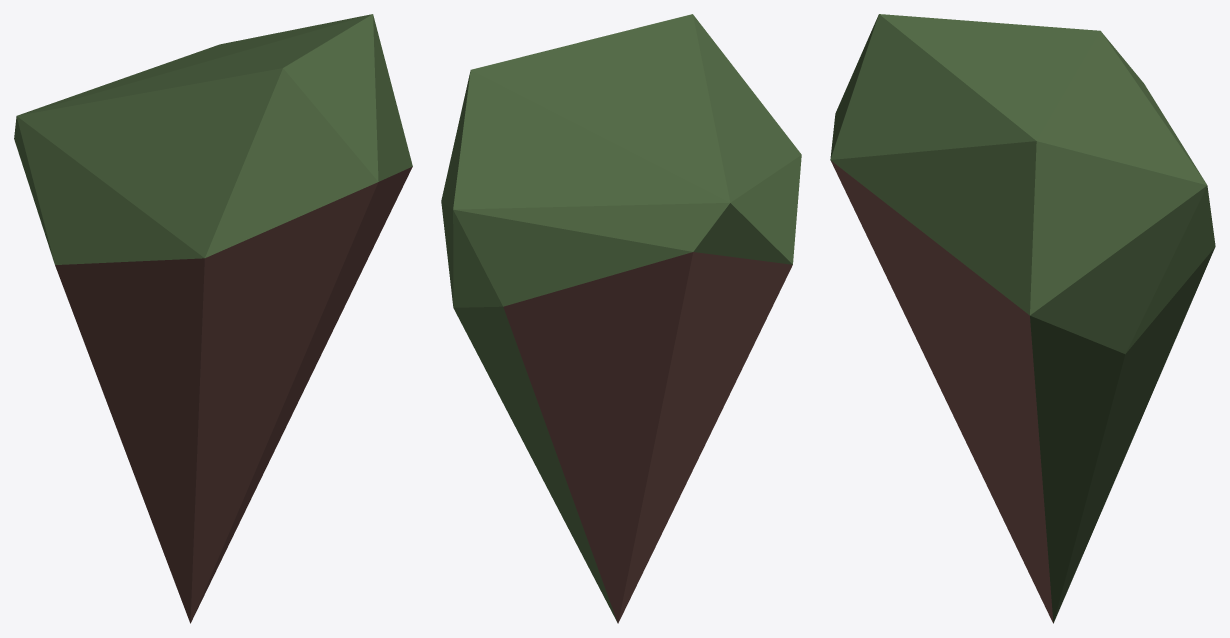
File: PalmTree_1.lod4.glb
3 views of the same model, side by side, from view 1: azimuth 30°, elevation 25°; view 2: azimuth 150°, elevation 25°; view 3: azimuth 270°, elevation 25° (orthographic). The views are drawn at different scales.
Parts seen in each view (by area): view 1: PalmTree_1; view 2: PalmTree_1; view 3: PalmTree_1.
Part boxes in pixels (x1=…): PalmTree_1: x1=14, y1=14, x2=412, y2=623; PalmTree_1: x1=441, y1=14, x2=801, y2=623; PalmTree_1: x1=830, y1=14, x2=1215, y2=623.
Size of the model in its own units: 2.88 by 4.53 by 2.58.
